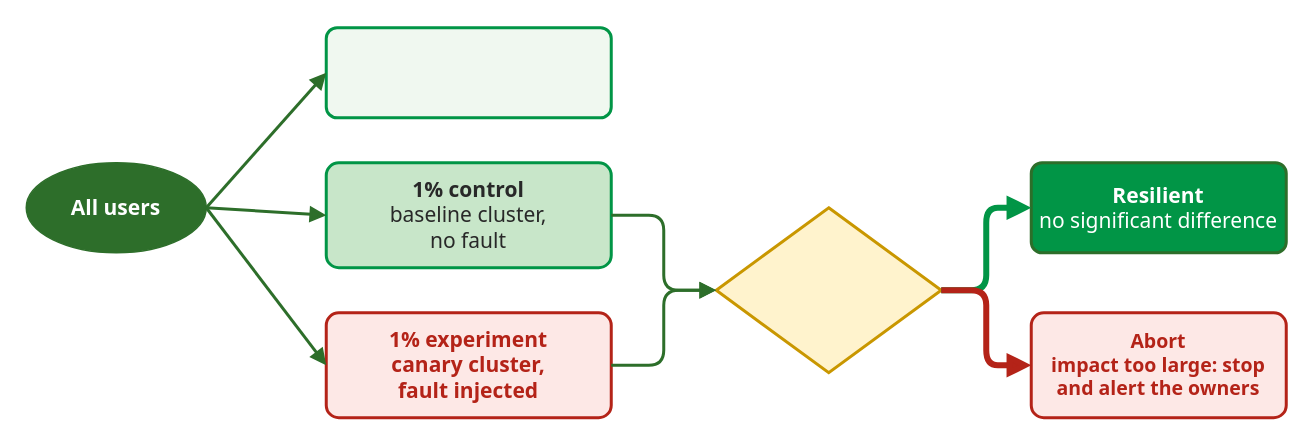
This 1314x444 diagram has some shape labels left out. Here are the shapes that lost their labels. From the top down, the centre of each, then its label:
pixel 468 72: 98% of users normal production
pixel 828 290: Compare SPS (stream starts per second)
